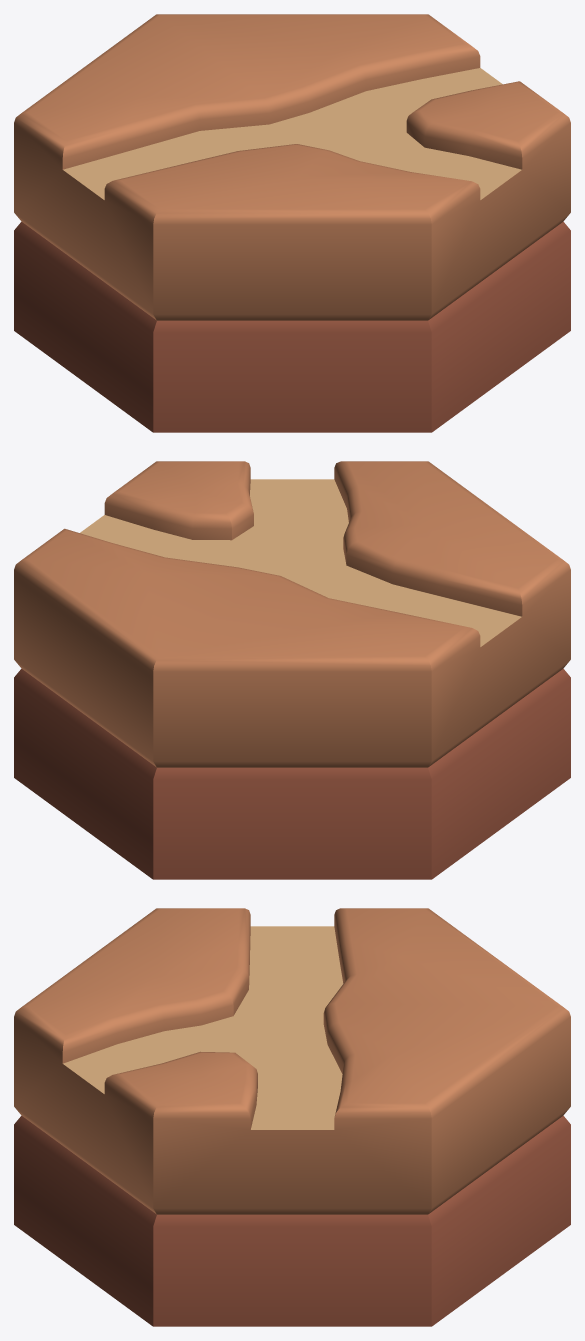
Rendered from hex_rock_roadE_detail.glb.
The picture shows the model from 3 angles, top to bottom: view 1: azimuth 30°, elevation 25°; view 2: azimuth 150°, elevation 25°; view 3: azimuth 270°, elevation 25°; orthographic projection.
Visible parts, largest first — view 1: hex_rock_roadE_detail; view 2: hex_rock_roadE_detail; view 3: hex_rock_roadE_detail.
Part boxes in pixels (x1,y1,x2,y2): hex_rock_roadE_detail: [14, 14, 570, 432]; hex_rock_roadE_detail: [14, 461, 570, 879]; hex_rock_roadE_detail: [14, 908, 570, 1326].
Bounding box in the file's own units: 3.82 × 1.91 × 4.41.
